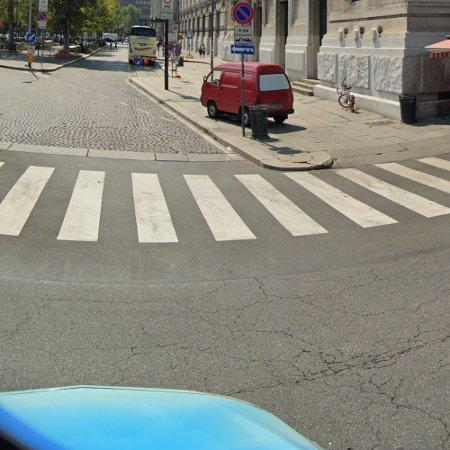crosswalks: (0, 155, 450, 243)
